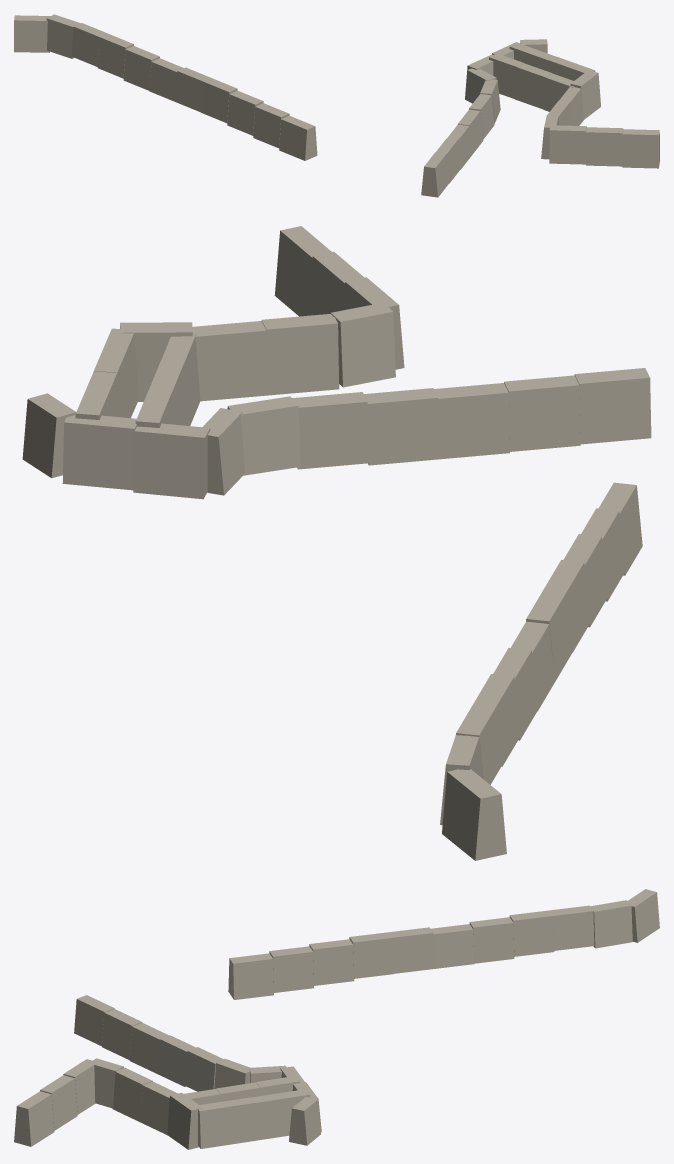
File: kalkara_63_21_mid.glb
3 renders of one model, top to bottom at view 1: azimuth 30°, elevation 25°; view 2: azimuth 150°, elevation 25°; view 3: azimuth 270°, elevation 25°, orthographic. The views are drawn at different scales.
Parts seen in each view (by area): view 1: geometry_0; view 2: geometry_0; view 3: geometry_0.
Part boxes in pixels (x1,y1,x2,y2): geometry_0: (14,14,659,197); geometry_0: (22,226,651,860); geometry_0: (14,889,659,1149).
Size of the model in its own units: 152 by 15.97 by 188.
